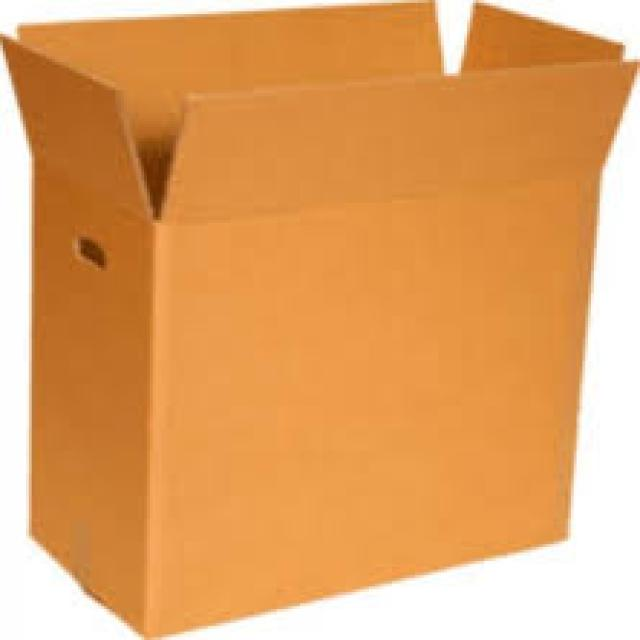cardboard: (3, 3, 637, 637)
